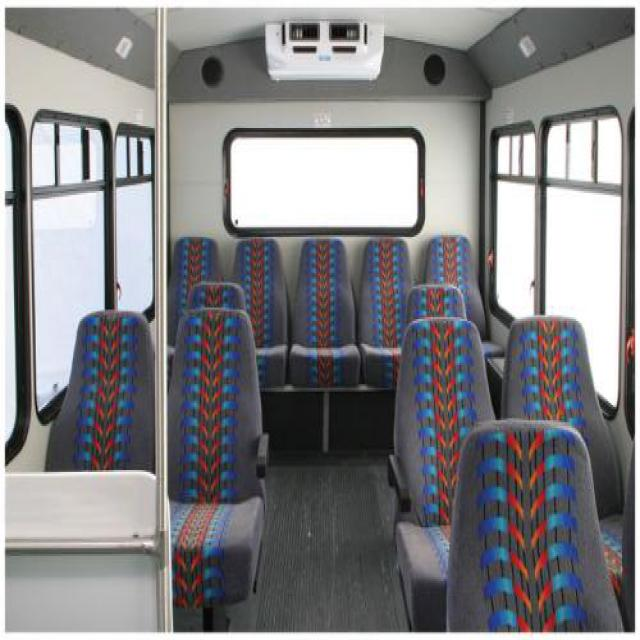2001: (538, 103, 621, 413), (29, 109, 111, 413), (220, 124, 424, 237), (488, 118, 534, 332), (114, 120, 159, 317)
air conditioning: (264, 15, 383, 78)
bar stool: (154, 0, 170, 627)
inside bus: (1, 0, 637, 632)
seat: (406, 283, 463, 321), (186, 279, 243, 309)
seat crop: (288, 239, 357, 382)
seats: (42, 308, 270, 625), (388, 313, 500, 629), (500, 313, 622, 598), (165, 235, 287, 386), (356, 237, 422, 386), (422, 233, 486, 342)
